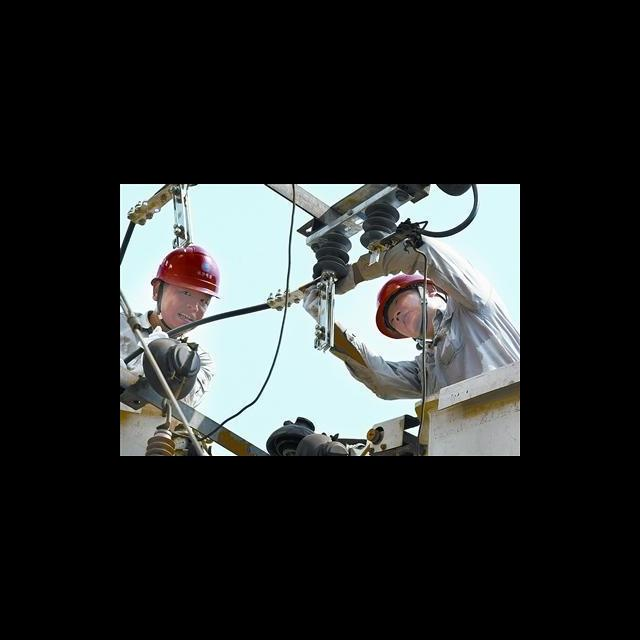Gloves: (333, 265, 356, 297), (303, 287, 321, 323), (145, 325, 169, 339)
Hardhat: (375, 273, 438, 339), (149, 244, 221, 298)
NO-Mask: (402, 299, 428, 336), (160, 307, 198, 331)
NO-Safety Vest: (420, 307, 520, 396), (120, 313, 203, 411)
Person: (300, 233, 520, 400), (120, 243, 215, 411)
